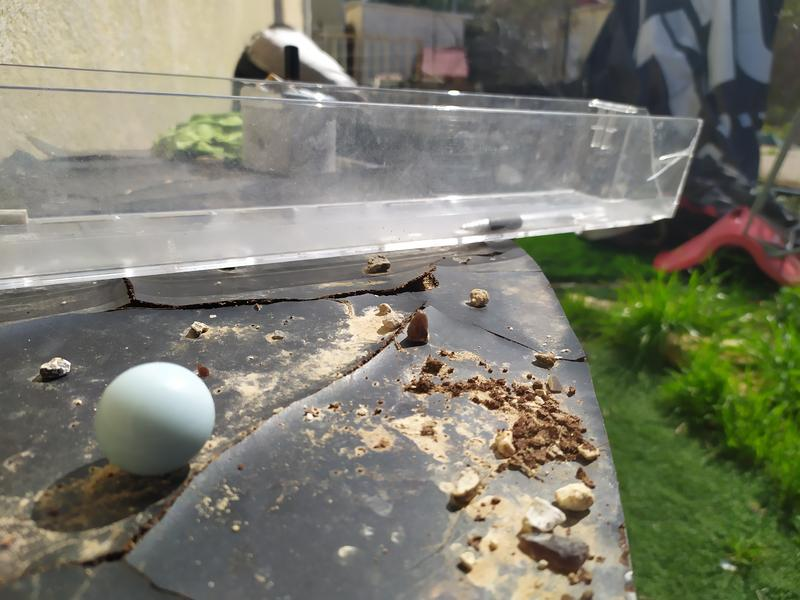Warning: (90, 357, 219, 481)
